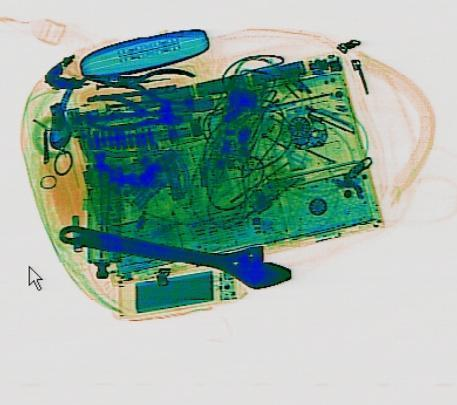Pliers: (82, 57, 196, 106), (80, 90, 184, 138)
Wrench: (52, 210, 296, 294)
